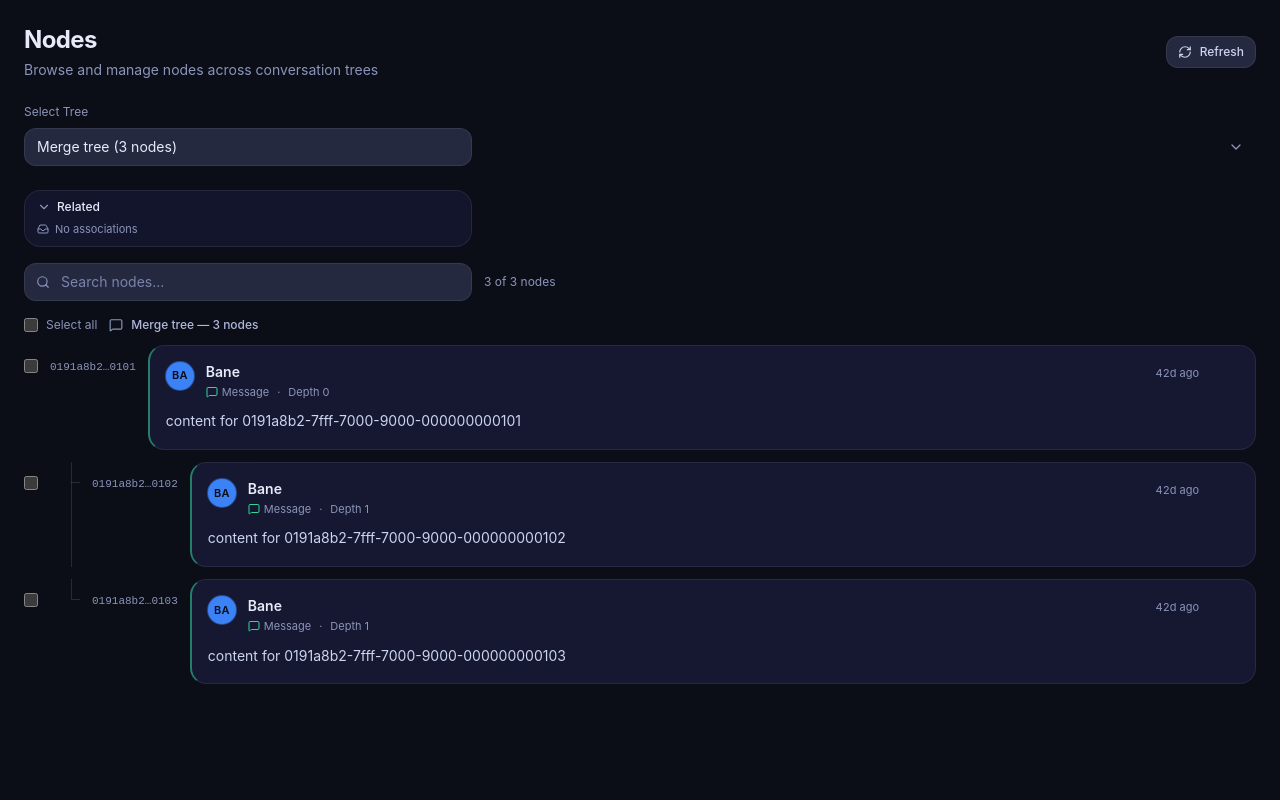
NodesPage — bulk merge › opens the merge dialog when Merge is clicked
Click the 1st checkbox with test id "node-row-checkbox" at (31, 366), box left=24, top=358, right=38, bottom=372
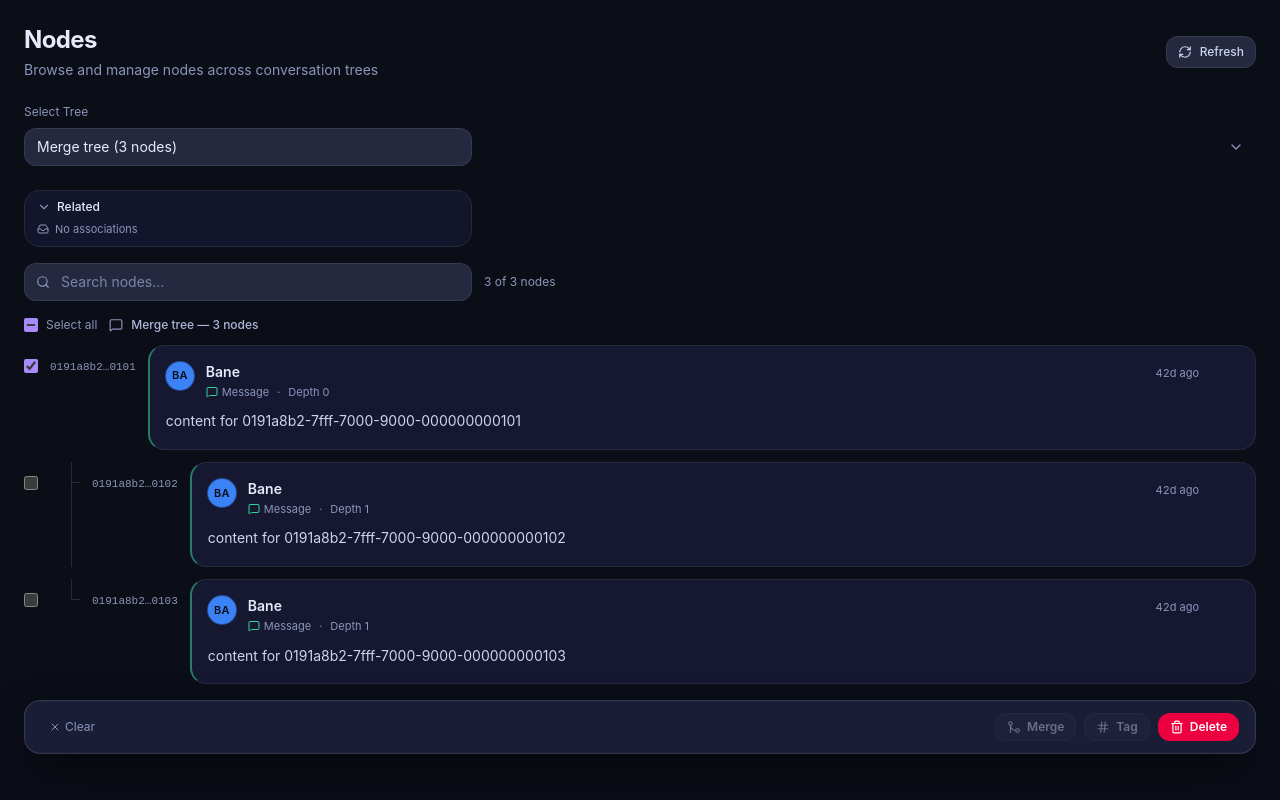
Click the 2nd checkbox with test id "node-row-checkbox" at (31, 483), box left=24, top=476, right=38, bottom=490
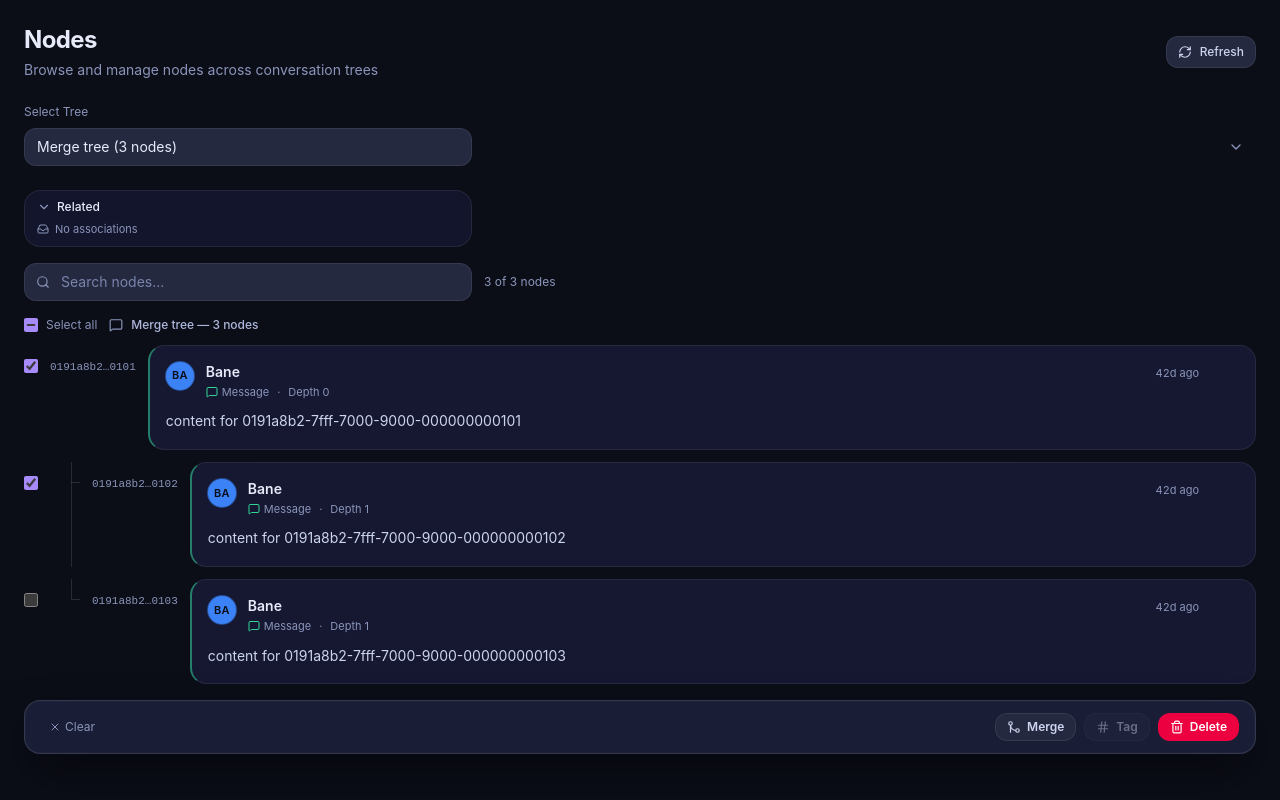
Expected: the button with test id "bulk-action-merge" is shown
Click the button with test id "bulk-action-merge" at (1036, 727), box left=995, top=713, right=1076, bottom=741
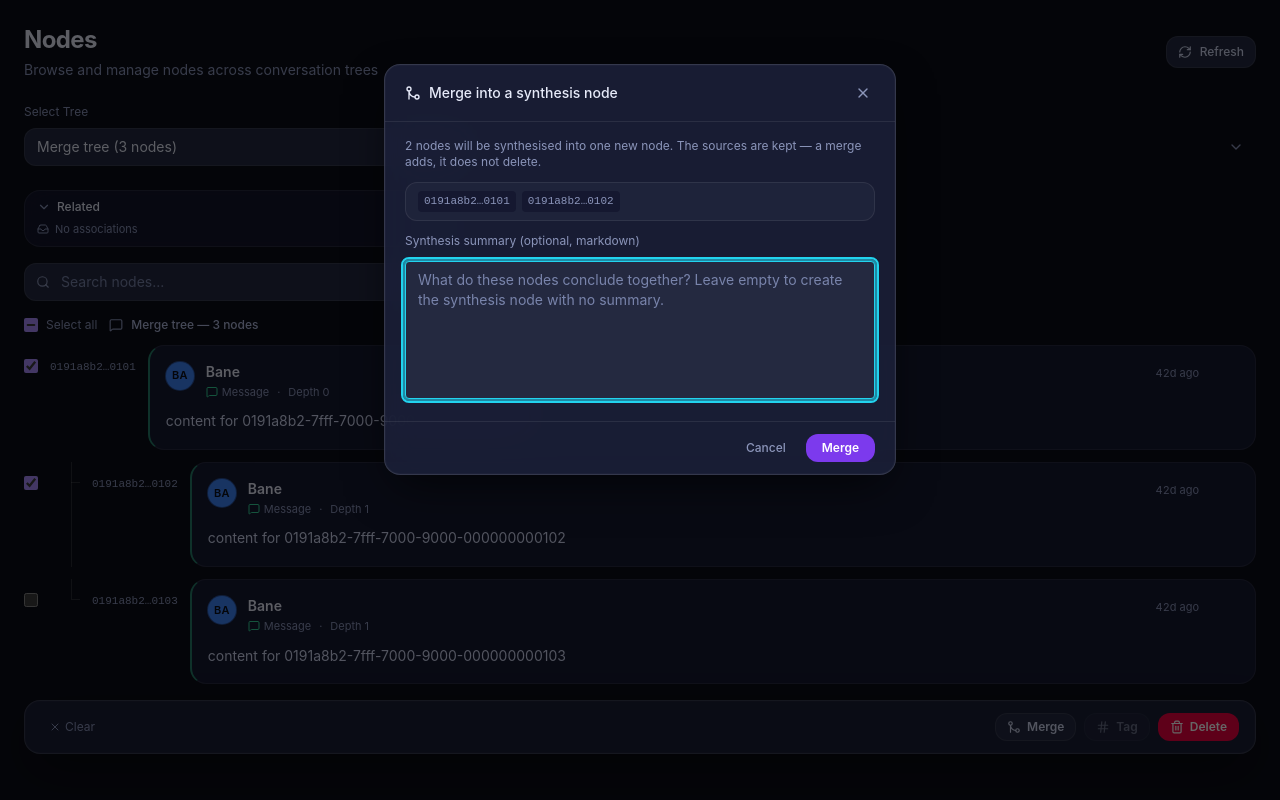
Expected: the dialog with test id "merge-dialog" is shown
Expected: the dialog with test id "merge-dialog" shows "2 nodes", left=405, top=138, right=451, bottom=153
